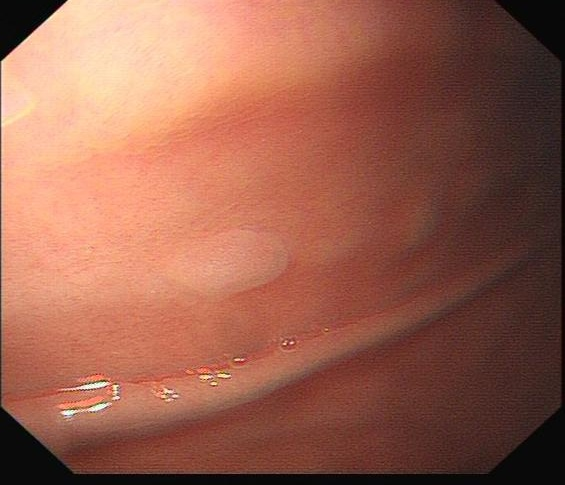Polyp: (157, 226, 291, 308)
